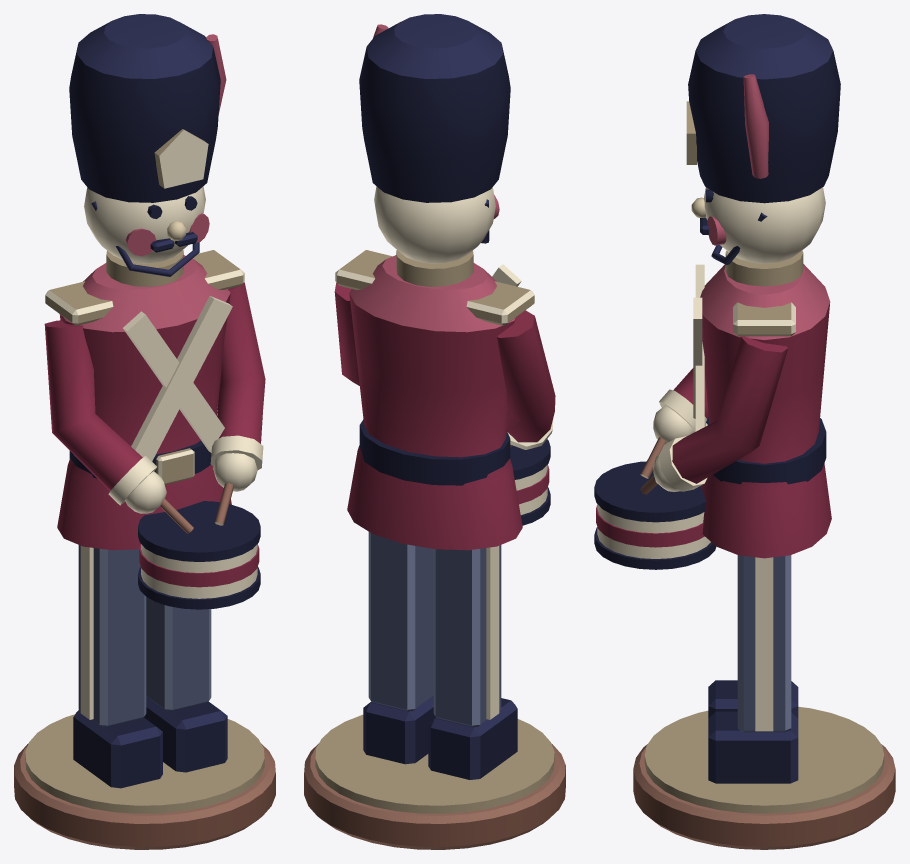
Rendered from ToySoldier.fbx.
The picture shows the model from 3 angles, left to right: view 1: azimuth 30°, elevation 25°; view 2: azimuth 150°, elevation 25°; view 3: azimuth 270°, elevation 25°; orthographic projection.
Visible parts, largest first — view 1: ToySoldier; view 2: ToySoldier; view 3: ToySoldier.
Boxes of the visible parts, x1=… form: ToySoldier: x1=14, y1=14, x2=275, y2=849; ToySoldier: x1=304, y1=14, x2=565, y2=849; ToySoldier: x1=594, y1=14, x2=895, y2=849.
Bounding box in the file's own units: 3.5 × 11.32 × 4.02.
1 material, 1 textured.
